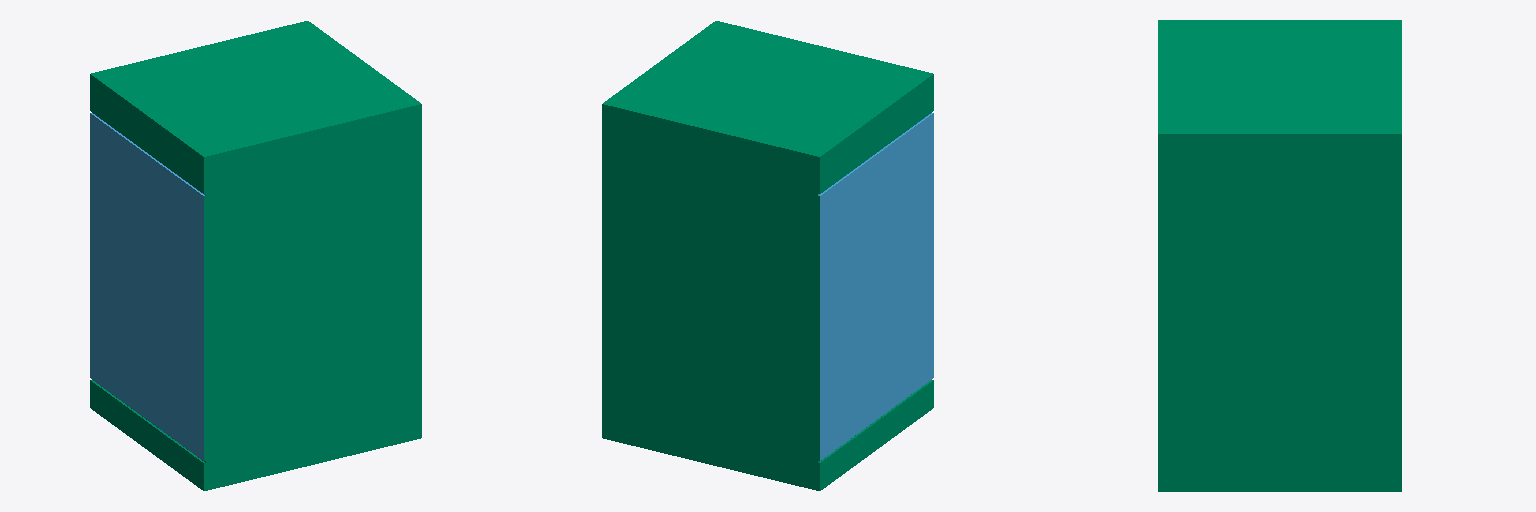
The robot description file, URDF, robot "partnet_cc3cb778-0511-4fbb-b4c2-c0f172cb998f":
<?xml version="1.0" ?>
<robot name="partnet_cc3cb778-0511-4fbb-b4c2-c0f172cb998f">
	<link name="base"/>
	<link name="link_0">
		<visual name="door_frame-15">
			<origin xyz="-0.4774239999999996 0.6082661892959458 -0.5298554546813674"/>
			<geometry>
				<mesh filename="textured_objs/new-3.obj"/>
			</geometry>
		</visual>
		<visual name="door_frame-15">
			<origin xyz="-0.4774239999999996 0.6082661892959458 -0.5298554546813674"/>
			<geometry>
				<mesh filename="textured_objs/original-6.obj"/>
			</geometry>
		</visual>
		<visual name="handle-16">
			<origin xyz="-0.4774239999999996 0.6082661892959458 -0.5298554546813674"/>
			<geometry>
				<mesh filename="textured_objs/new-2.obj"/>
			</geometry>
		</visual>
		<collision>
			<origin xyz="-0.4774239999999996 0.6082661892959458 -0.5298554546813674"/>
			<geometry>
				<mesh filename="textured_objs/new-3.obj"/>
			</geometry>
		</collision>
		<collision>
			<origin xyz="-0.4774239999999996 0.6082661892959458 -0.5298554546813674"/>
			<geometry>
				<mesh filename="textured_objs/original-6.obj"/>
			</geometry>
		</collision>
		<collision>
			<origin xyz="-0.4774239999999996 0.6082661892959458 -0.5298554546813674"/>
			<geometry>
				<mesh filename="textured_objs/new-2.obj"/>
			</geometry>
		</collision>
	</link>
	<joint name="joint_0" type="revolute">
		<origin xyz="0.4774239999999996 -0.6082661892959458 0.5298554546813674"/>
		<axis xyz="1 0 0"/>
		<child link="link_0"/>
		<parent link="link_1"/>
		<limit lower="0.0" upper="1.5707963267948966"/>
	</joint>
	<link name="link_1">
		<visual name="frame-11">
			<origin xyz="0 0 0"/>
			<geometry>
				<mesh filename="textured_objs/new-1.obj"/>
			</geometry>
		</visual>
		<visual name="control_panel-14">
			<origin xyz="0 0 0"/>
			<geometry>
				<mesh filename="textured_objs/original-2.obj"/>
			</geometry>
		</visual>
		<visual name="foot-4">
			<origin xyz="0 0 0"/>
			<geometry>
				<mesh filename="textured_objs/original-11.obj"/>
			</geometry>
		</visual>
		<visual name="foot-5">
			<origin xyz="0 0 0"/>
			<geometry>
				<mesh filename="textured_objs/original-10.obj"/>
			</geometry>
		</visual>
		<visual name="foot-6">
			<origin xyz="0 0 0"/>
			<geometry>
				<mesh filename="textured_objs/original-9.obj"/>
			</geometry>
		</visual>
		<visual name="foot-7">
			<origin xyz="0 0 0"/>
			<geometry>
				<mesh filename="textured_objs/original-8.obj"/>
			</geometry>
		</visual>
		<visual name="surface-8">
			<origin xyz="0 0 0"/>
			<geometry>
				<mesh filename="textured_objs/original-4.obj"/>
			</geometry>
		</visual>
		<visual name="surface-8">
			<origin xyz="0 0 0"/>
			<geometry>
				<mesh filename="textured_objs/new-0.obj"/>
			</geometry>
		</visual>
		<collision>
			<origin xyz="0 0 0"/>
			<geometry>
				<mesh filename="textured_objs/new-1.obj"/>
			</geometry>
		</collision>
		<collision>
			<origin xyz="0 0 0"/>
			<geometry>
				<mesh filename="textured_objs/original-2.obj"/>
			</geometry>
		</collision>
		<collision>
			<origin xyz="0 0 0"/>
			<geometry>
				<mesh filename="textured_objs/original-11.obj"/>
			</geometry>
		</collision>
		<collision>
			<origin xyz="0 0 0"/>
			<geometry>
				<mesh filename="textured_objs/original-10.obj"/>
			</geometry>
		</collision>
		<collision>
			<origin xyz="0 0 0"/>
			<geometry>
				<mesh filename="textured_objs/original-9.obj"/>
			</geometry>
		</collision>
		<collision>
			<origin xyz="0 0 0"/>
			<geometry>
				<mesh filename="textured_objs/original-8.obj"/>
			</geometry>
		</collision>
		<collision>
			<origin xyz="0 0 0"/>
			<geometry>
				<mesh filename="textured_objs/original-4.obj"/>
			</geometry>
		</collision>
		<collision>
			<origin xyz="0 0 0"/>
			<geometry>
				<mesh filename="textured_objs/new-0.obj"/>
			</geometry>
		</collision>
	</link>
	<joint name="joint_1" type="fixed">
		<origin rpy="1.570796326794897 0 -1.570796326794897" xyz="0 0 0"/>
		<child link="link_1"/>
		<parent link="base"/>
	</joint>
</robot>

--- Render facts (derived) ---
The picture shows the robot from 3 angles, left to right: view 1: azimuth 30°, elevation 25°; view 2: azimuth 150°, elevation 25°; view 3: azimuth 270°, elevation 25°; orthographic projection.
Model partnet_cc3cb778-0511-4fbb-b4c2-c0f172cb998f with 3 links and 2 joints (1 revolute, 1 fixed), rooted at base, posed every joint at zero.
Visible links, largest first — view 1: link_1, link_0; view 2: link_1, link_0; view 3: link_1.
Link boxes in pixels (x1,y1,x2,y2): link_1: (90,21,421,490); link_0: (90,113,205,460); link_1: (602,21,933,490); link_0: (818,113,933,460); link_1: (1158,20,1401,491).
Size in the robot's own frame: 1.03 by 0.9325 by 1.52 metres.
10 mesh visuals loaded from 11 distinct referenced files (10 OBJ); not drawn: 1 (reference not matched to a file when rendering).
